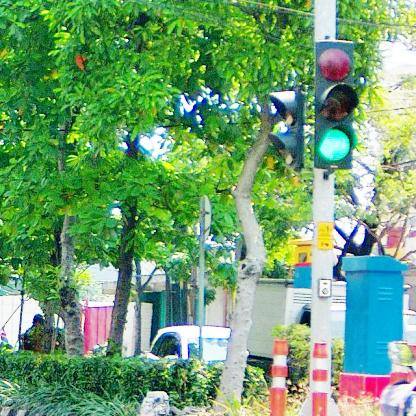Traffic Light -Green-: (315, 40, 356, 170)
